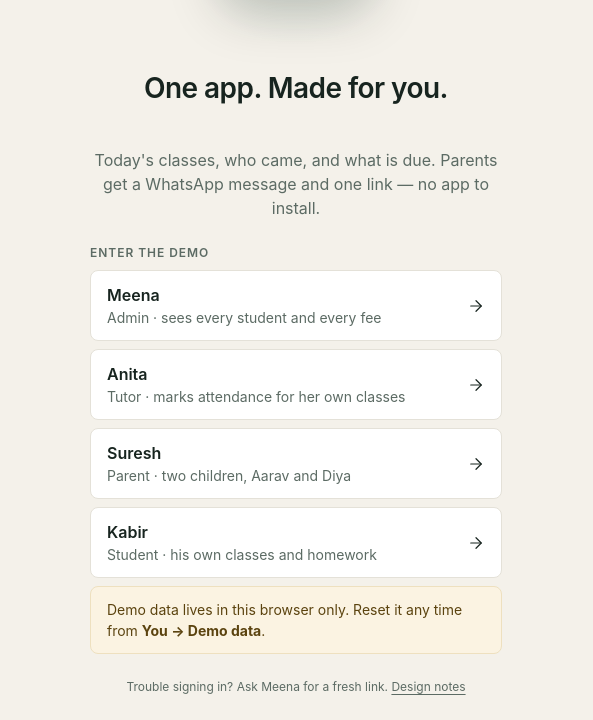
Test case: signing in to the demo › takes a student to their own home with a student-only nav
(page scrolled)
Click the button "Kabir Student · his own classes and homework" at (127, 532), box [90,507,502,578]
(page scrolled)
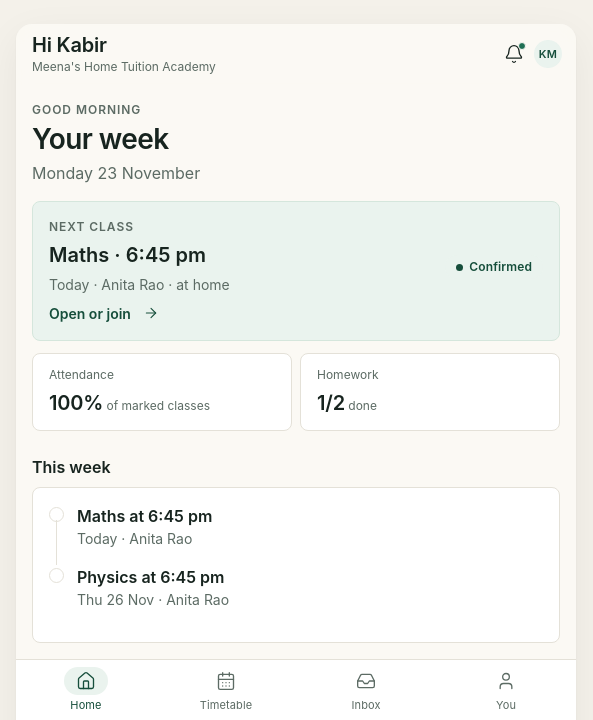
Now the heading "Your week" is shown, box [32,122,169,156]
Now the link "Inbox" is shown, box [352,671,381,712]
